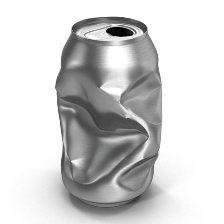can: (49, 13, 165, 211)
